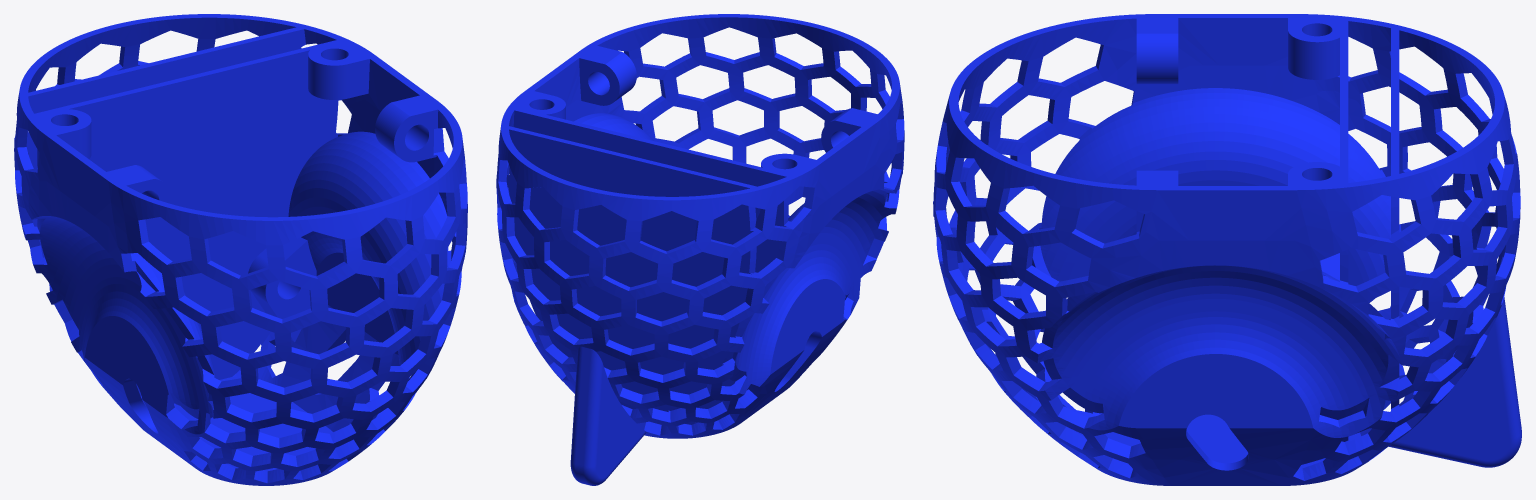
Rendered from pendulum_robot_frame_bascket_ovt7o8.dae.
3 views of the same model, side by side, from view 1: azimuth 30°, elevation 25°; view 2: azimuth 150°, elevation 25°; view 3: azimuth 270°, elevation 25° (orthographic). The views are drawn at different scales.
Parts seen in each view (by area): view 1: node0; view 2: node0; view 3: node0.
Part boxes in pixels (x1=…): node0: x1=14, y1=14, x2=467, y2=485; node0: x1=496, y1=14, x2=904, y2=485; node0: x1=933, y1=14, x2=1521, y2=485.
Bounding box in the file's own units: 0.06 × 0.0847 × 0.0575.
